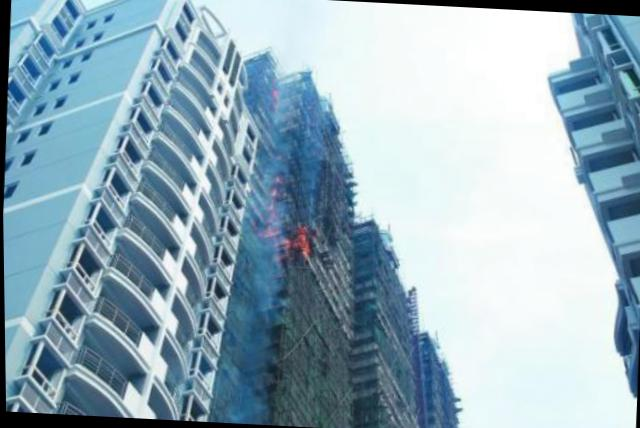fire: (298, 228, 311, 254), (283, 237, 295, 246)
